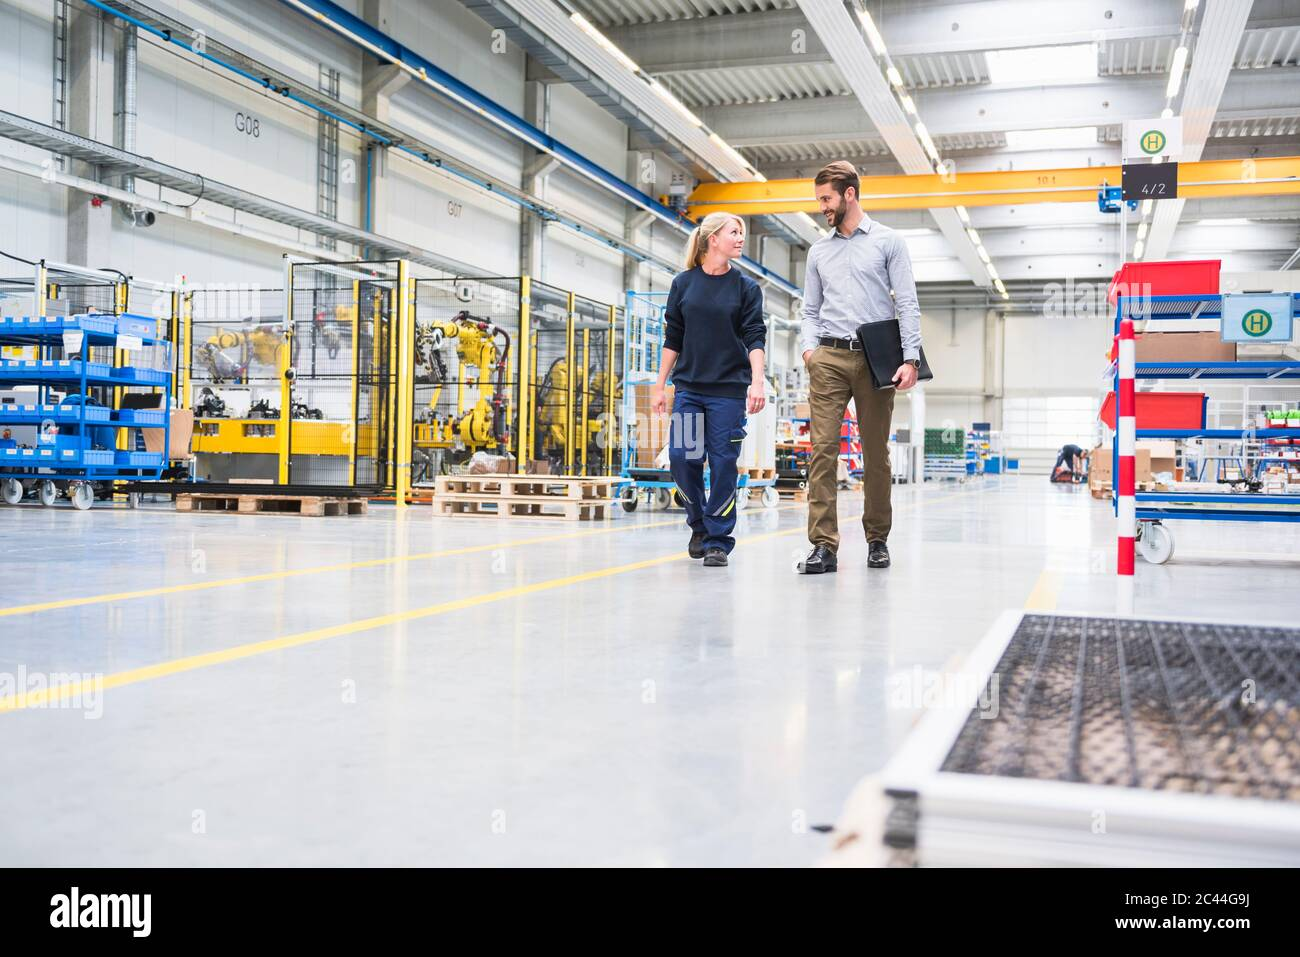person: (796, 160, 916, 570), (652, 213, 764, 567)
